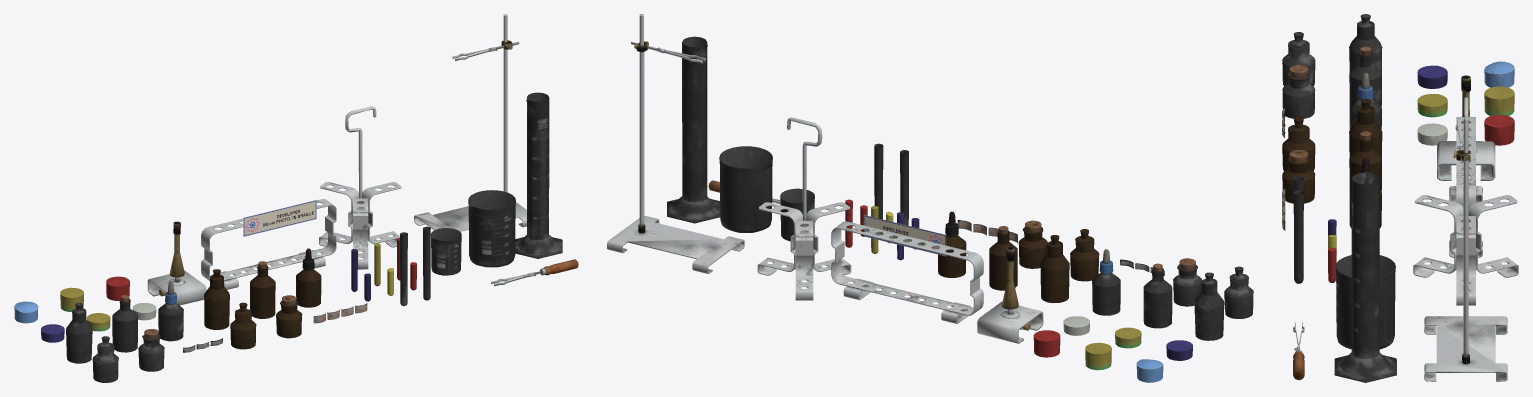
Rendered from nyb_wud_chem.glb.
3 renders of one model, left to right at view 1: azimuth 30°, elevation 25°; view 2: azimuth 150°, elevation 25°; view 3: azimuth 270°, elevation 25°, orthographic. The views are drawn at different scales.
Visible parts, largest first — view 1: chemistry_set_beaker_large, stk_lbl_8a40ab7a94.png; view 2: chemistry_set_beaker_large, stk_lbl_8a40ab7a94.png; view 3: chemistry_set_beaker_large.
Part boxes in pixels (x1,y1,x2,y2): chemistry_set_beaker_large: (14, 14, 578, 382); stk_lbl_8a40ab7a94.png: (243, 200, 316, 236); chemistry_set_beaker_large: (607, 14, 1253, 382); stk_lbl_8a40ab7a94.png: (864, 215, 946, 256); chemistry_set_beaker_large: (1282, 14, 1518, 382).
Size of the model in its own units: 1.08 by 0.4285 by 0.3539.
3 materials, 3 textured.
